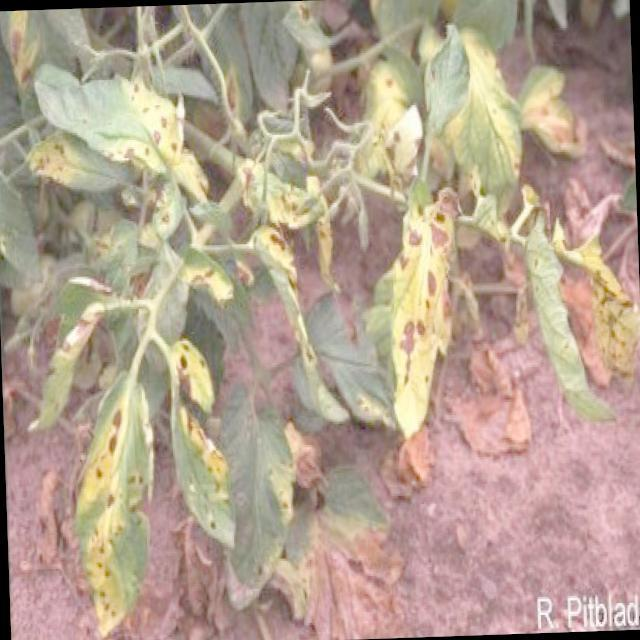Tomato Early blight leaf: (36, 53, 224, 224), (66, 364, 162, 638), (248, 220, 349, 428), (218, 377, 301, 607), (385, 189, 458, 439), (23, 271, 122, 430), (166, 338, 241, 540), (441, 25, 521, 212)
